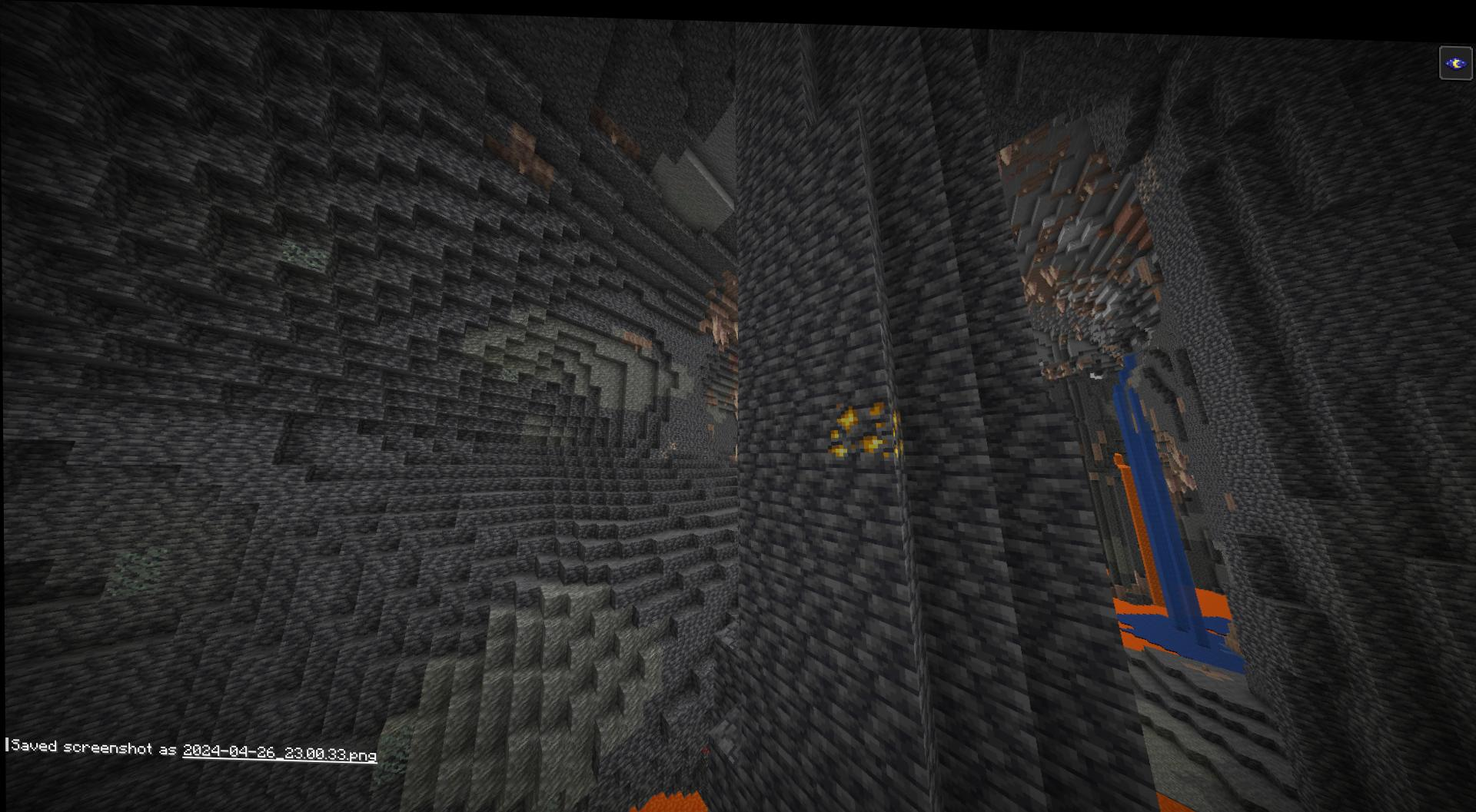gold ore: (826, 388, 892, 452)
